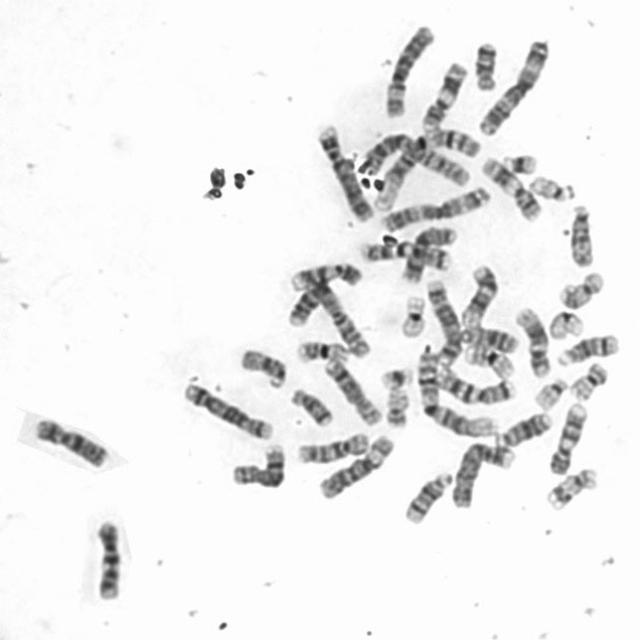A1: (368, 123, 482, 214), (412, 341, 502, 439)
A2: (285, 264, 373, 361), (354, 125, 476, 188)
A3: (473, 32, 553, 137), (376, 180, 493, 233)
B4: (312, 118, 375, 224), (448, 434, 519, 510)
B5: (178, 377, 276, 441), (422, 274, 464, 368)
C10: (88, 513, 125, 603), (292, 426, 373, 465)
C11: (476, 151, 545, 224), (417, 56, 471, 133)
C12: (511, 301, 554, 379), (456, 259, 501, 327)
C6: (314, 429, 397, 500), (380, 19, 438, 119)
C7: (430, 361, 518, 405), (355, 236, 452, 272)
C8: (320, 353, 385, 427), (226, 438, 289, 489)
C9: (544, 397, 591, 476), (285, 256, 365, 292)
D13: (496, 407, 556, 448), (451, 322, 521, 356)
D14: (399, 466, 456, 525), (552, 328, 622, 368)
D15: (236, 342, 291, 389), (566, 199, 598, 268)
E16: (460, 340, 517, 380), (293, 335, 353, 365)
E17: (541, 461, 602, 512), (553, 266, 606, 311)
E18: (286, 382, 336, 427), (470, 36, 500, 92)
F19: (396, 288, 430, 339), (544, 306, 587, 340)
F20: (565, 357, 611, 401), (382, 382, 412, 428)
G21: (375, 360, 416, 390), (497, 147, 539, 176)
G22: (525, 169, 579, 203), (528, 372, 571, 410)
X: (29, 411, 113, 469), (397, 221, 460, 284)
